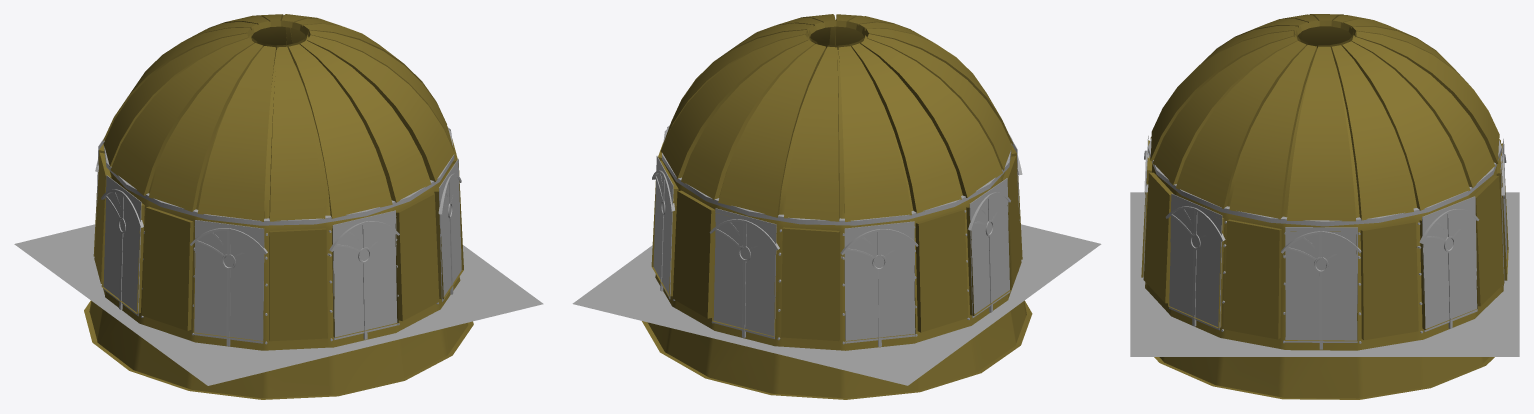
File: DomePrototype.fbx
The picture shows the model from 3 angles, left to right: view 1: azimuth 30°, elevation 25°; view 2: azimuth 150°, elevation 25°; view 3: azimuth 270°, elevation 25°; orthographic projection.
Visible parts, largest first — view 1: domeWalls, domeFloor, polySurface8, polySurface7, polySurface1, polySurface9, polySurface6, ndFloor; view 2: domeWalls, domeFloor, polySurface2, polySurface3, polySurface1, polySurface9, ndFloor, polySurface4; view 3: domeWalls, domeFloor, polySurface5, polySurface4, polySurface6, polySurface9, ndFloor, polySurface3.
Boxes of the visible parts, bbox=[...] form: domeWalls: bbox=[84, 14, 473, 399]; domeFloor: bbox=[14, 224, 543, 385]; polySurface8: bbox=[194, 220, 264, 343]; polySurface7: bbox=[332, 210, 397, 339]; polySurface1: bbox=[103, 175, 141, 316]; polySurface9: bbox=[95, 160, 461, 346]; polySurface6: bbox=[439, 158, 461, 301]; ndFloor: bbox=[103, 128, 454, 225]; domeWalls: bbox=[642, 14, 1032, 399]; domeFloor: bbox=[572, 224, 1101, 385]; polySurface2: bbox=[844, 221, 915, 343]; polySurface3: bbox=[713, 208, 776, 339]; polySurface1: bbox=[969, 178, 1010, 318]; polySurface9: bbox=[652, 155, 1022, 346]; ndFloor: bbox=[662, 126, 1012, 225]; polySurface4: bbox=[653, 156, 673, 298]; domeWalls: bbox=[1141, 14, 1508, 399]; domeFloor: bbox=[1130, 192, 1519, 356]; polySurface5: bbox=[1285, 227, 1357, 342]; polySurface4: bbox=[1422, 196, 1477, 331]; polySurface6: bbox=[1169, 193, 1222, 330]; polySurface9: bbox=[1144, 150, 1506, 349]; ndFloor: bbox=[1148, 138, 1501, 226]; polySurface3: bbox=[1500, 138, 1506, 282].
Size of the model in its own units: 0.6282 by 0.5095 by 0.6282.
